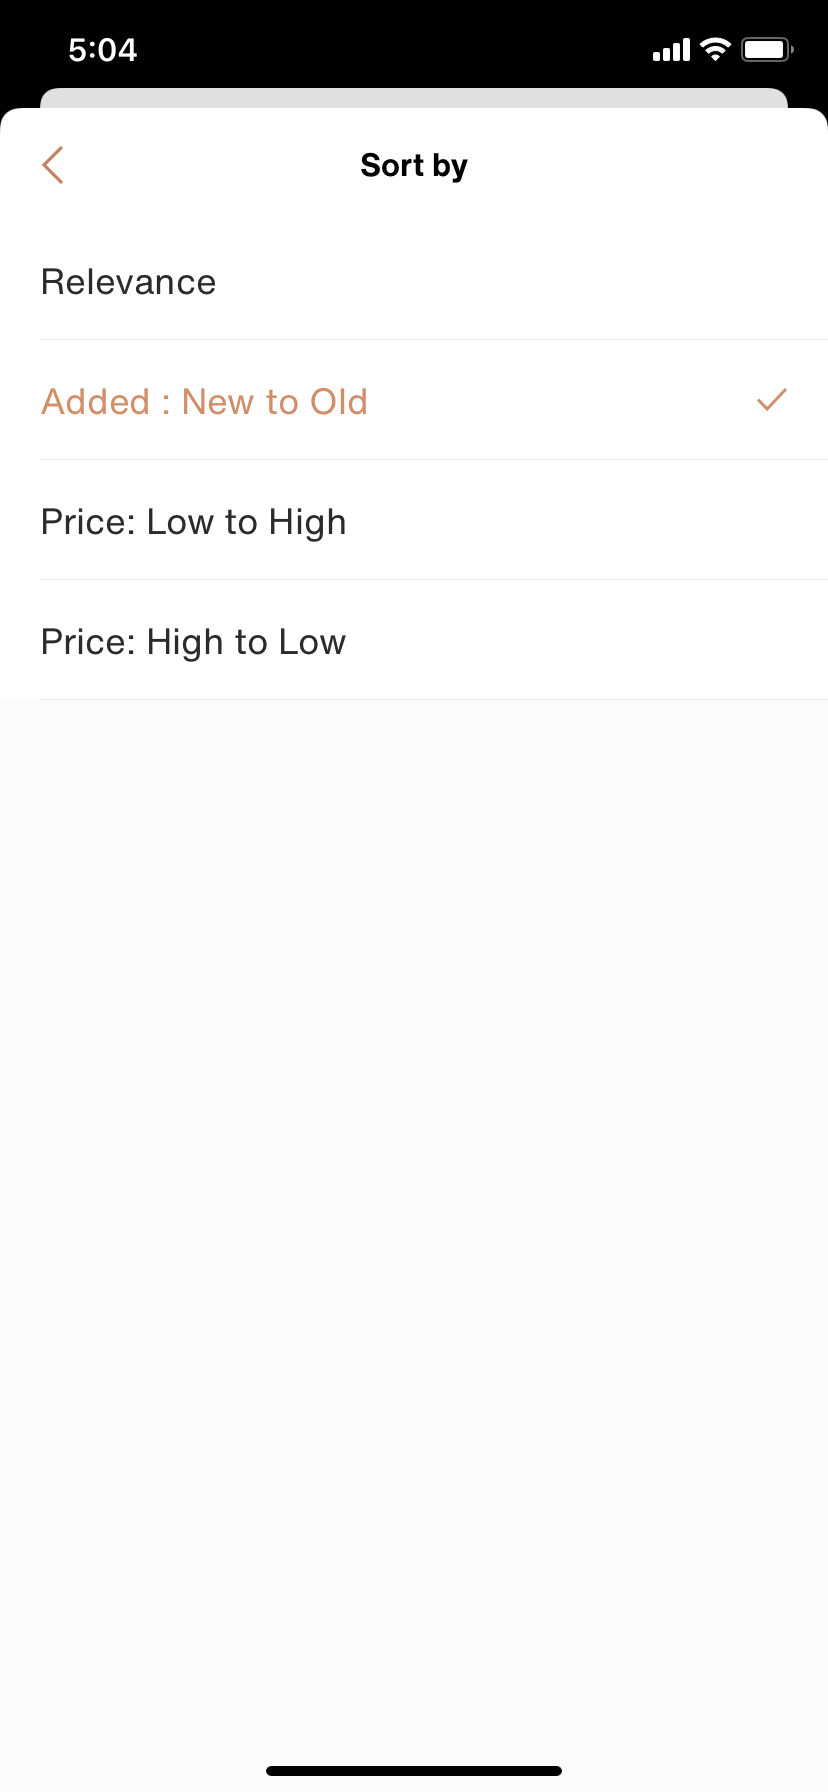Buttons: (15, 126, 98, 203)
Radio buttons: (1, 336, 828, 466)
